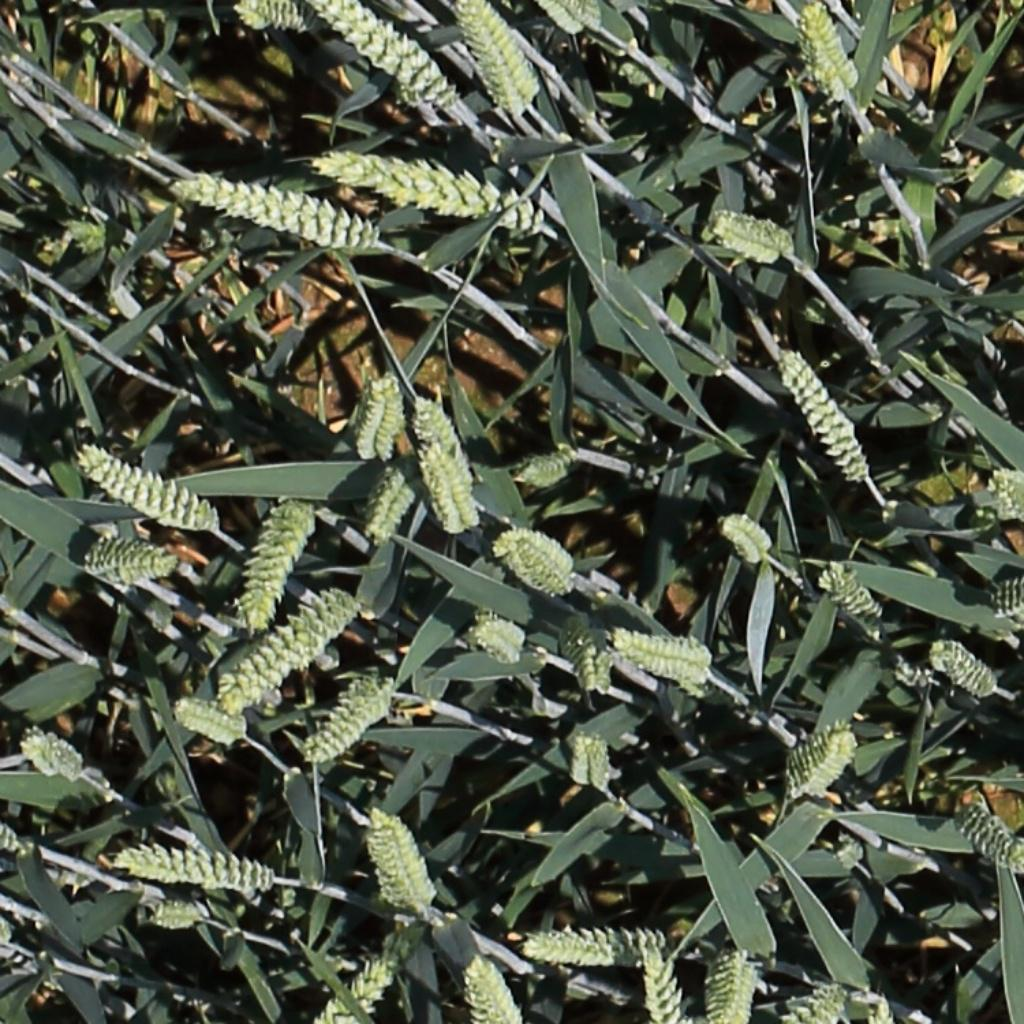0-0: (309, 150, 552, 235), (217, 584, 363, 715), (169, 173, 383, 252), (312, 0, 457, 111), (772, 341, 875, 485), (72, 434, 220, 530), (235, 494, 319, 635), (454, 0, 544, 115), (113, 843, 280, 893), (300, 677, 394, 764), (364, 803, 439, 912), (788, 0, 865, 106), (781, 713, 866, 802), (517, 926, 681, 971), (609, 620, 714, 686), (487, 524, 580, 595), (410, 391, 477, 489), (416, 442, 483, 539), (310, 954, 400, 1024), (80, 530, 182, 584), (707, 207, 800, 264), (956, 799, 1024, 874), (461, 949, 525, 1024), (928, 639, 1002, 698), (704, 947, 760, 1024), (20, 723, 90, 783), (639, 944, 691, 1024), (361, 465, 409, 550), (170, 696, 247, 747), (817, 563, 882, 622), (352, 368, 389, 462), (777, 982, 856, 1024), (568, 625, 613, 698), (368, 372, 400, 468), (532, 0, 607, 36), (715, 516, 767, 566), (244, 0, 320, 34), (516, 447, 577, 488), (570, 730, 614, 786), (618, 54, 689, 86), (148, 895, 210, 931), (468, 626, 521, 666), (989, 464, 1024, 524), (468, 617, 524, 653), (724, 514, 772, 555), (674, 677, 731, 709), (987, 576, 1024, 625), (890, 655, 938, 691), (0, 819, 33, 861), (233, 0, 270, 31), (866, 991, 899, 1024), (1001, 167, 1024, 198)
